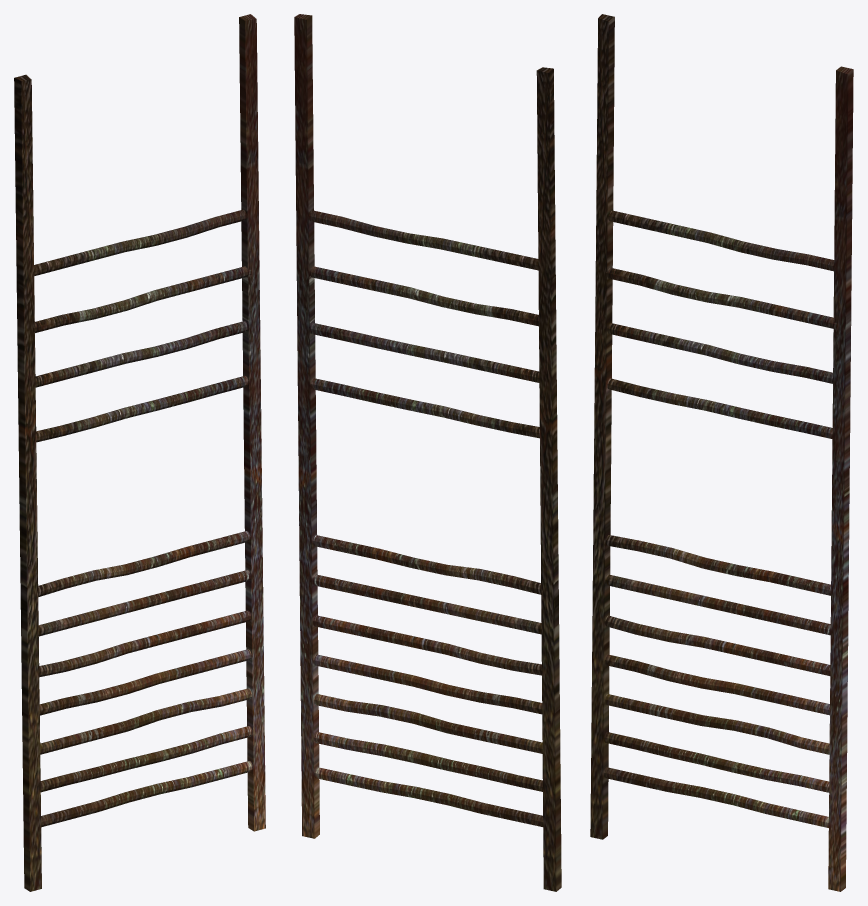
The model's file is rear-shutter.obj.
3 views of the same model, side by side, from view 1: azimuth 30°, elevation 25°; view 2: azimuth 150°, elevation 25°; view 3: azimuth 330°, elevation 25° (orthographic). The views are drawn at different scales.
Visible parts, largest first — view 1: shutter-einzeln; view 2: shutter-einzeln; view 3: shutter-einzeln.
Boxes of the visible parts, left/top/right/bottom form: shutter-einzeln: left=14, top=14, right=265, bottom=891; shutter-einzeln: left=294, top=14, right=561, bottom=891; shutter-einzeln: left=590, top=14, right=853, bottom=891.
Bounding box in the file's own units: 0.4071 × 1.28 × 0.0579.
